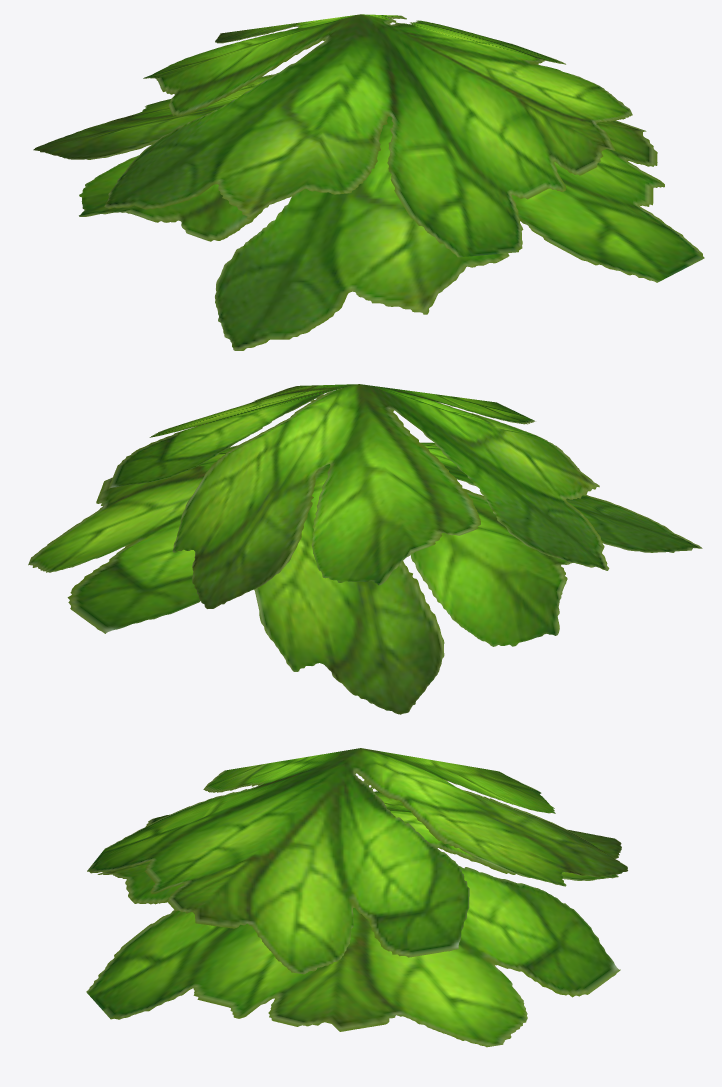
The model's file is grass01.fbx.
The picture shows the model from 3 angles, top to bottom: view 1: azimuth 30°, elevation 25°; view 2: azimuth 150°, elevation 25°; view 3: azimuth 270°, elevation 25°; orthographic projection. The views are drawn at different scales.
Parts seen in each view (by area): view 1: pPlane75; view 2: pPlane75; view 3: pPlane75.
Part boxes in pixels (x1,y1,x2,y2): pPlane75: [33, 14, 704, 350]; pPlane75: [28, 384, 702, 714]; pPlane75: [86, 748, 627, 1047].
Size of the model in its own units: 1.32 by 0.3758 by 1.33.
